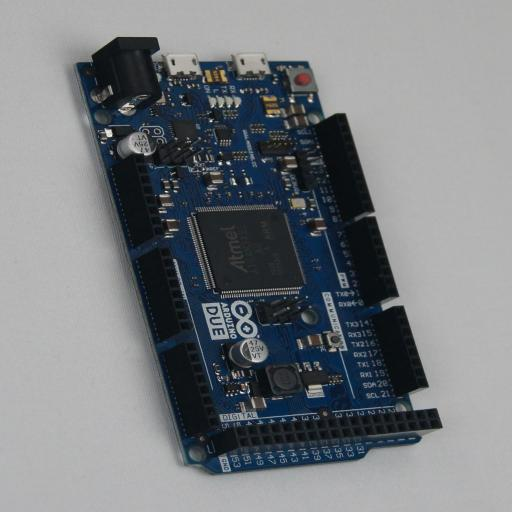Arduino Due: (74, 37, 442, 475)
